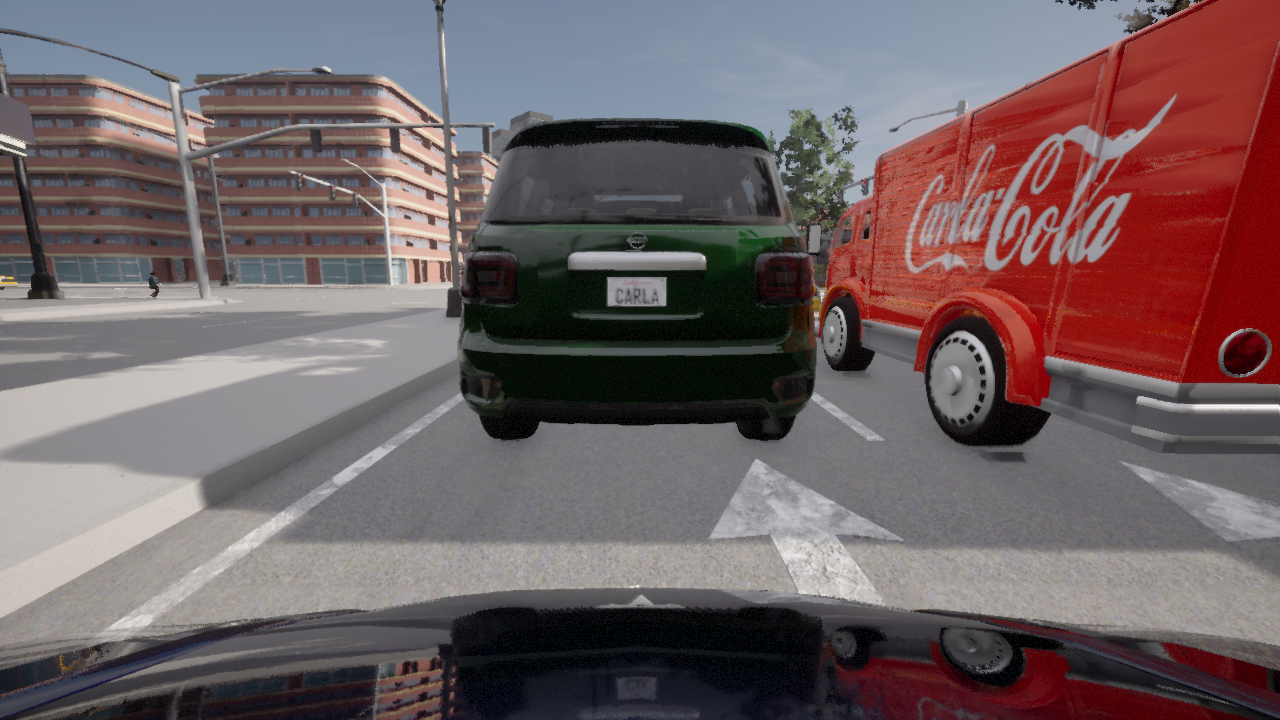cyclist: (806, 0, 1279, 454), (0, 588, 1279, 719), (457, 118, 816, 439), (813, 285, 820, 310)
pedestrian: (147, 272, 160, 298), (262, 273, 267, 284)
